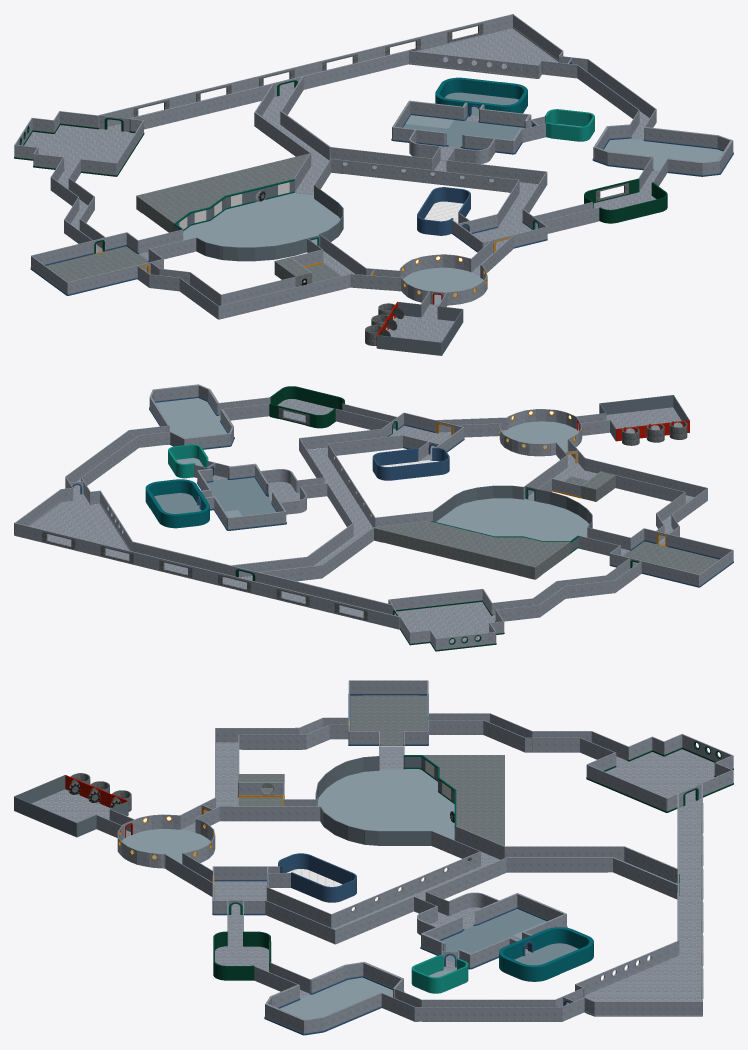
File: CFTD_BaseMap.obj
3 renders of one model, top to bottom at view 1: azimuth 30°, elevation 25°; view 2: azimuth 150°, elevation 25°; view 3: azimuth 270°, elevation 25°, orthographic. The views are drawn at different scales.
Visible parts, largest first — view 1: mergedBlocks; view 2: mergedBlocks; view 3: mergedBlocks.
Part boxes in pixels (box(x1,y1,x2,y2)): mergedBlocks: box(14, 14, 733, 355); mergedBlocks: box(14, 384, 733, 651); mergedBlocks: box(14, 680, 733, 1035).
Bounding box in the file's own units: 100 × 2.23 × 89.61.
